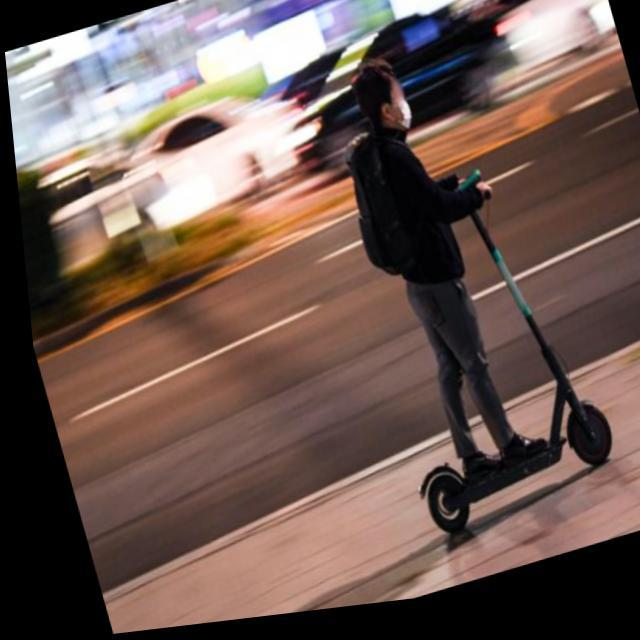Nonhelmet: (342, 54, 422, 142)
